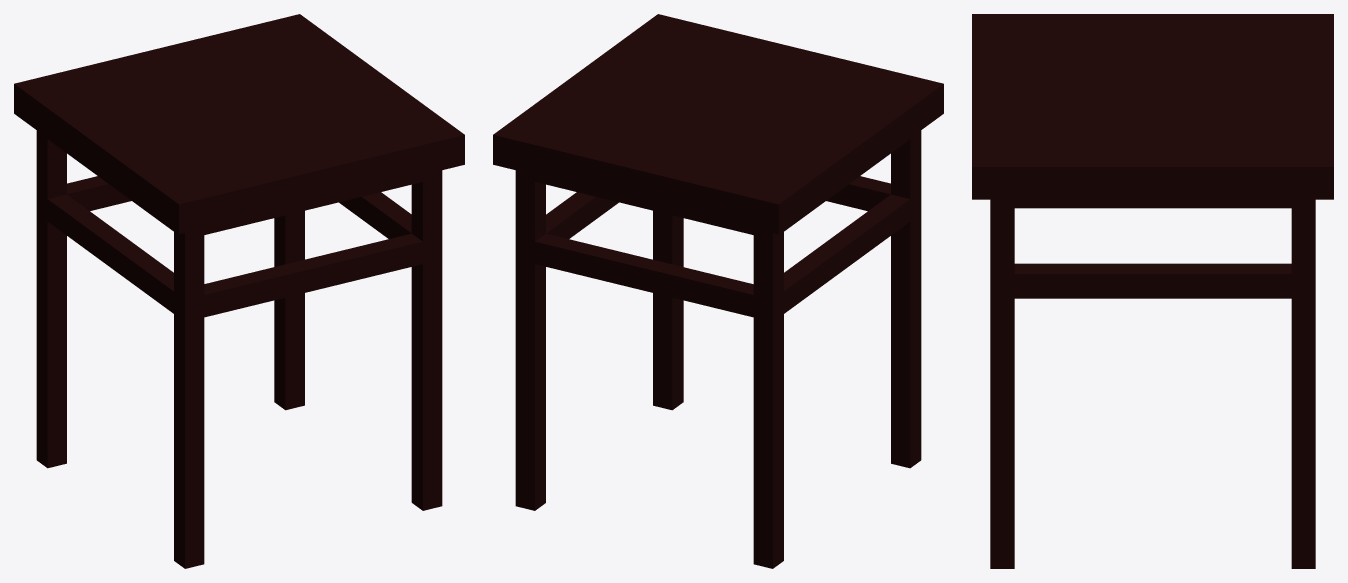
File: WR Small Table.fbx
3 views of the same model, side by side, from view 1: azimuth 30°, elevation 25°; view 2: azimuth 150°, elevation 25°; view 3: azimuth 270°, elevation 25° (orthographic). The views are drawn at different scales.
Visible parts, largest first — view 1: WR Small table; view 2: WR Small table; view 3: WR Small table.
Part boxes in pixels (x1,y1,x2,y2): WR Small table: (14, 14, 464, 568); WR Small table: (493, 14, 943, 568); WR Small table: (972, 14, 1333, 568).
Size of the model in its own units: 20 by 25 by 20.
